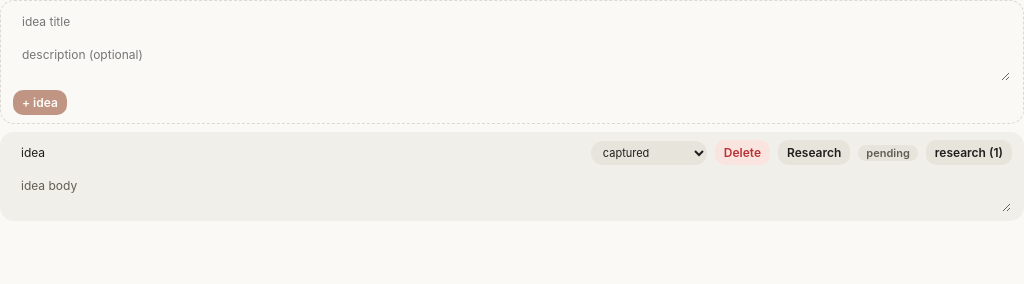
Test: IdeasList › the "research" toggle shows/hides the ResearchPane for that idea
The image size is (1024, 284).
Click the button with test id "idea-research-toggle-i1": click(969, 152) [926,140,1012,165]
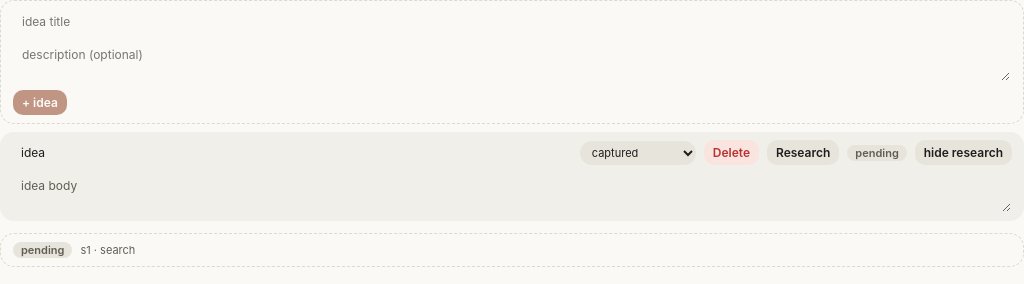
Expected: the element with test id "research-pane" is shown, [0,233,1023,267]
Click the button with test id "idea-research-toggle-i1": click(963, 152) [915,140,1012,165]
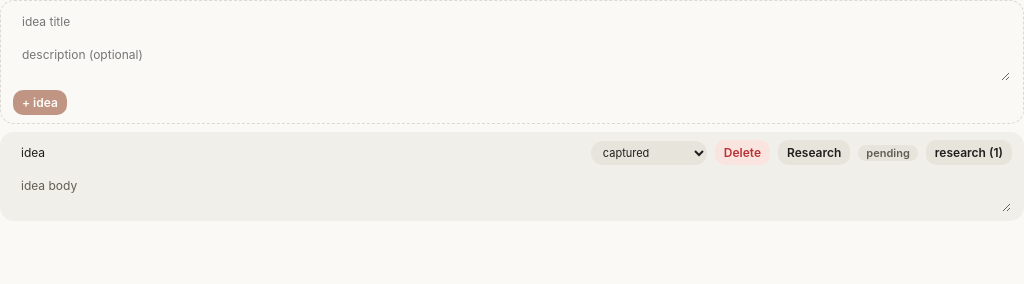
Expected: the element with test id "research-pane" is gone
